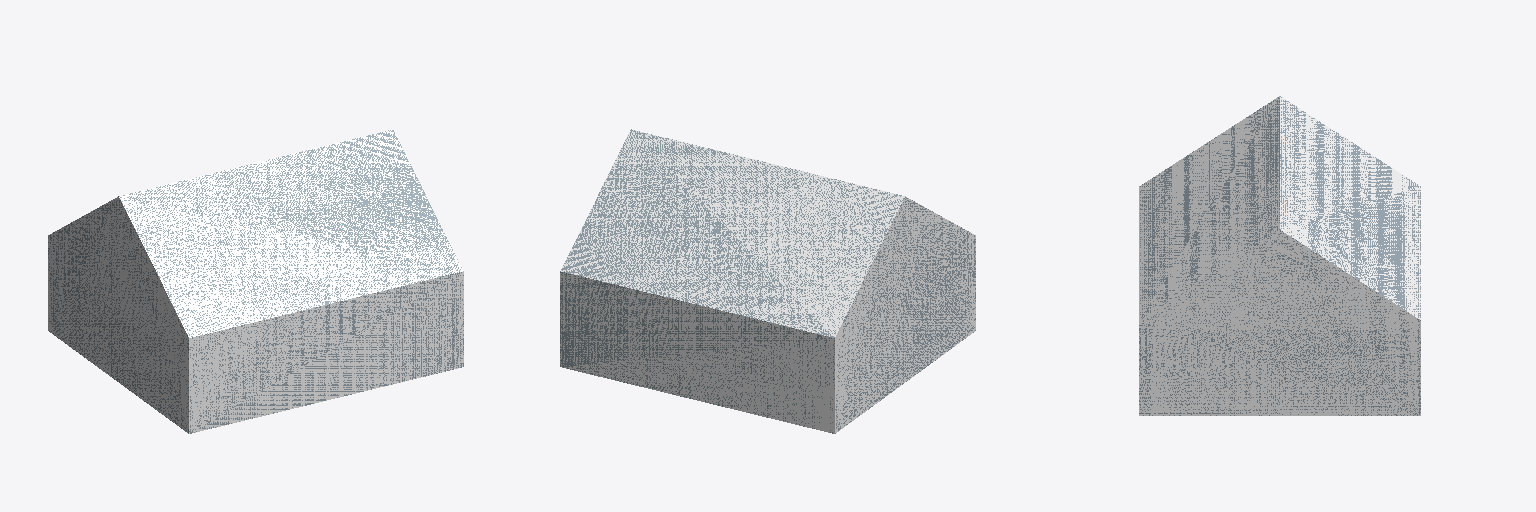
Rendered from haus01.obj.
The picture shows the model from 3 angles: view 1: azimuth 30°, elevation 25°; view 2: azimuth 150°, elevation 25°; view 3: azimuth 270°, elevation 25°; orthographic projection.
Visible parts, largest first — view 1: SketchUp_ID203.001; view 2: SketchUp_ID203.001; view 3: SketchUp_ID203.001.
Part boxes in pixels (x1,y1,x2,y2): SketchUp_ID203.001: (48,129,463,433); SketchUp_ID203.001: (560,129,975,433); SketchUp_ID203.001: (1139,96,1420,415).
Size of the model in its own units: 9.01 by 5.85 by 8.